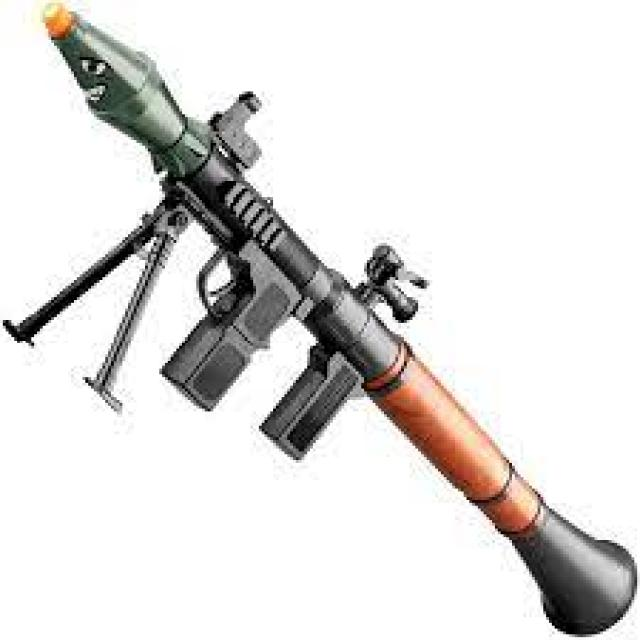bazooka: (1, 7, 638, 640)
